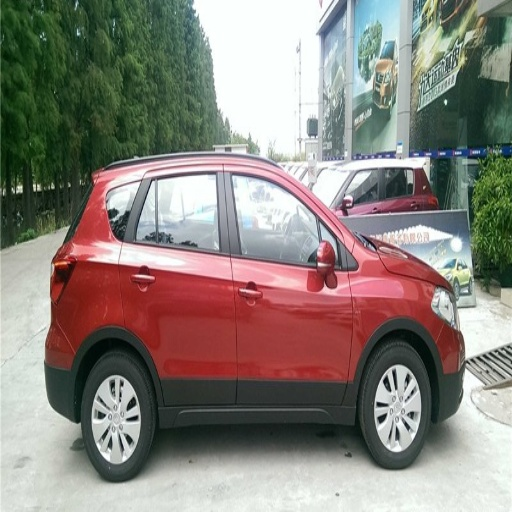back_right_door: (109, 161, 236, 407)
front_right_door: (226, 162, 353, 404)
